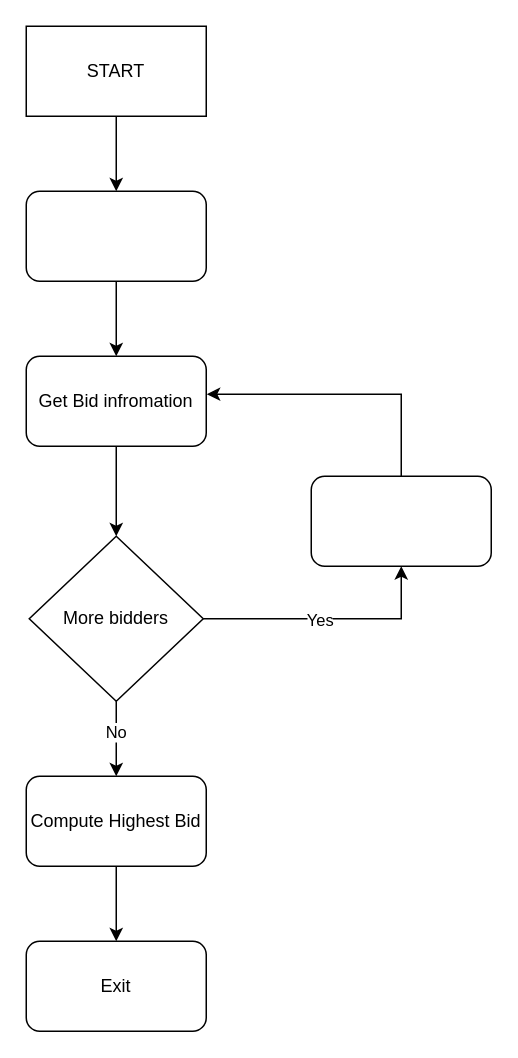
This 518x1058 diagram has some shape labels left out. The shapes that lost their labels are listed below. From the top down, each one's centre as x and y in pixels, then its label:
At (x=115, y=235): "Draw Logo (Art)".
At (x=400, y=520): "Clear screen".
